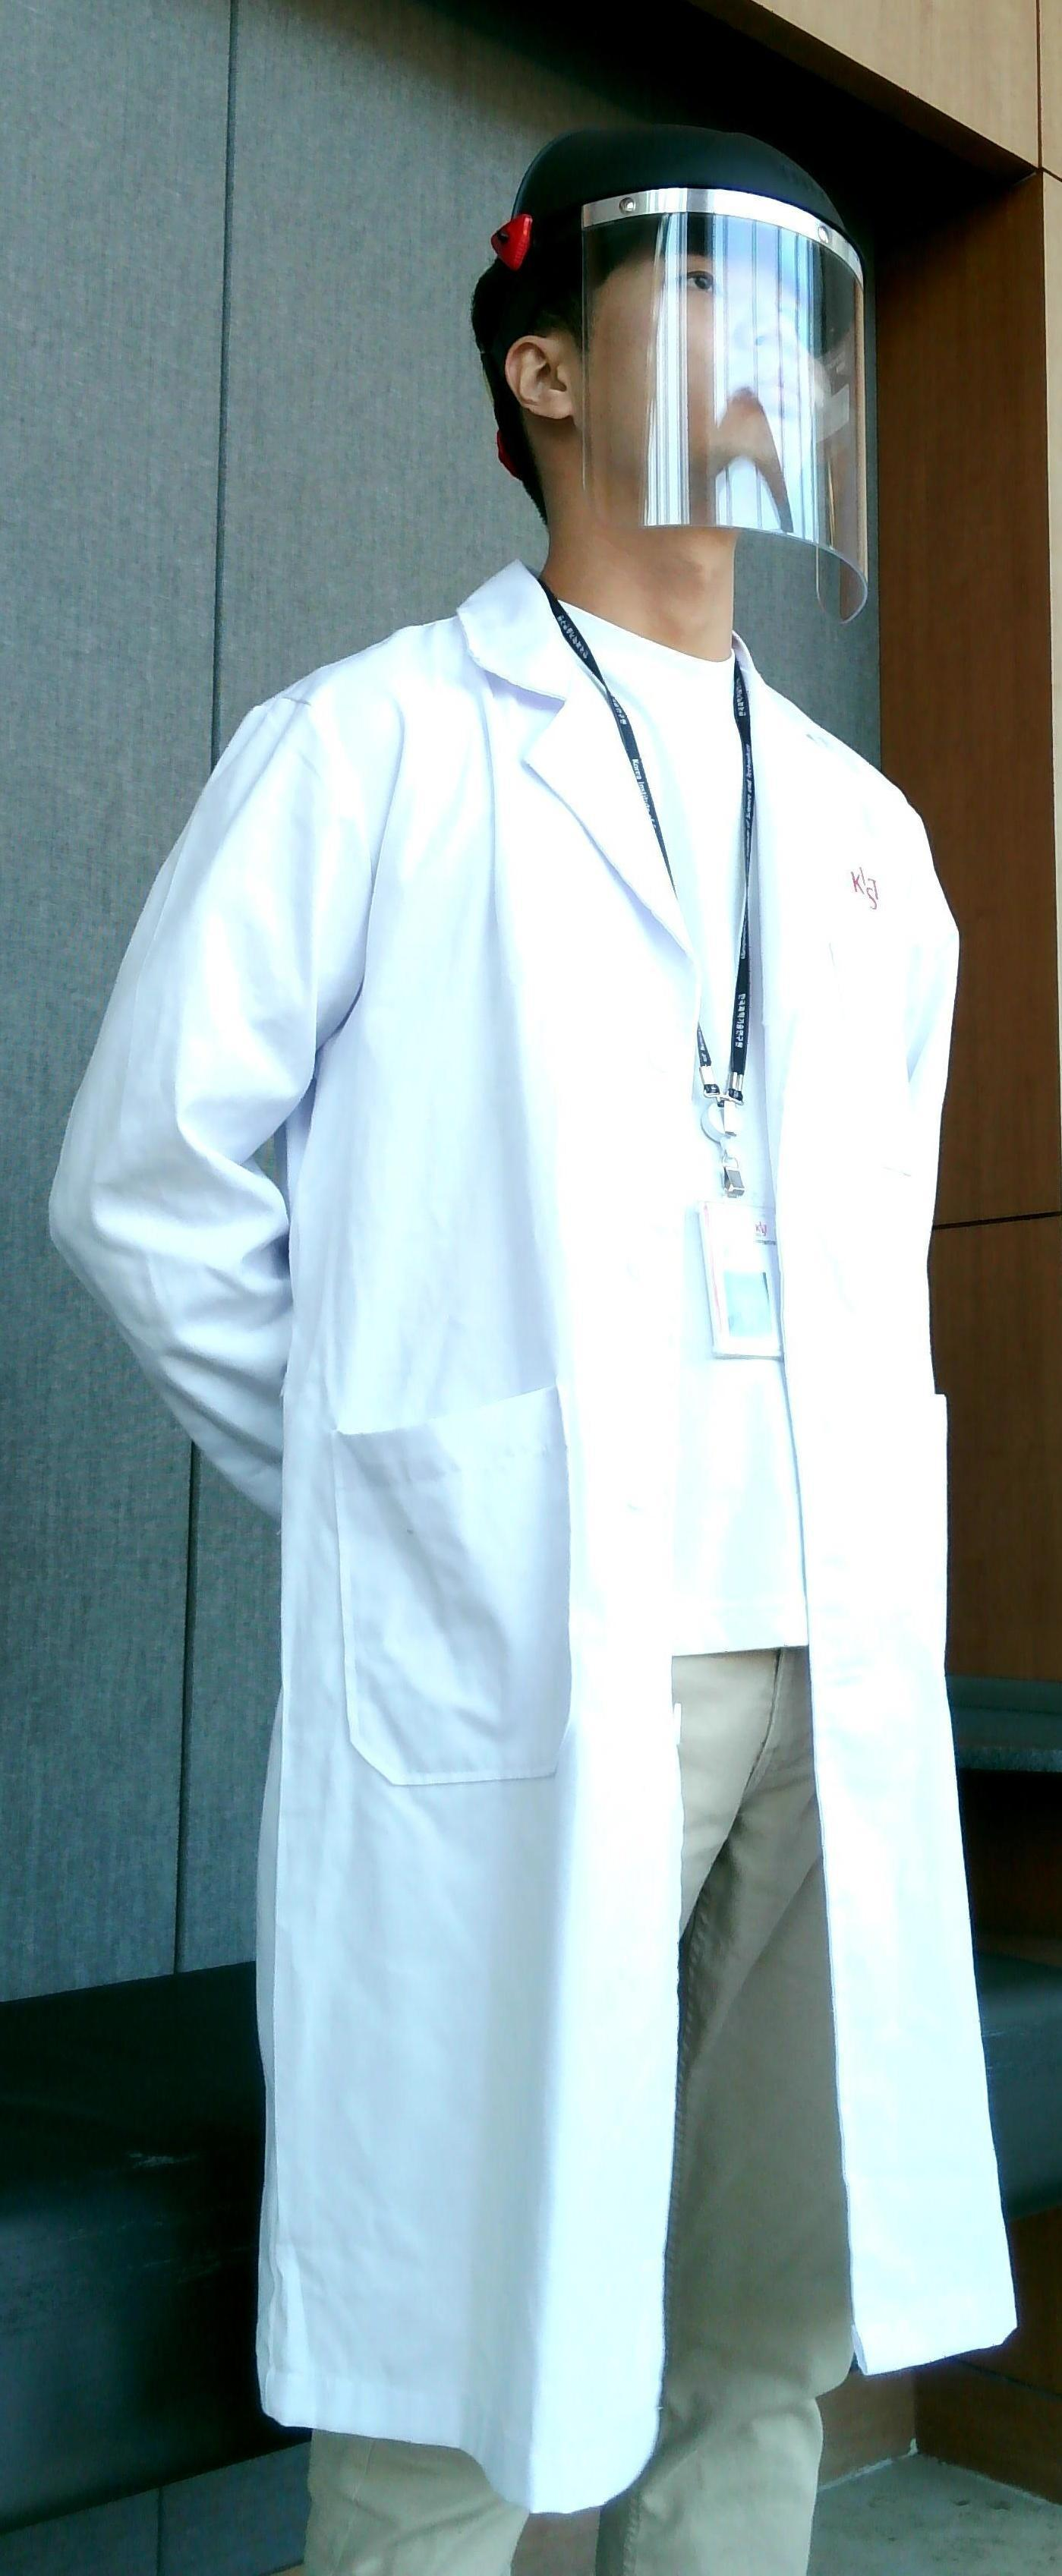lab_coat: (62, 631, 1044, 2367)
